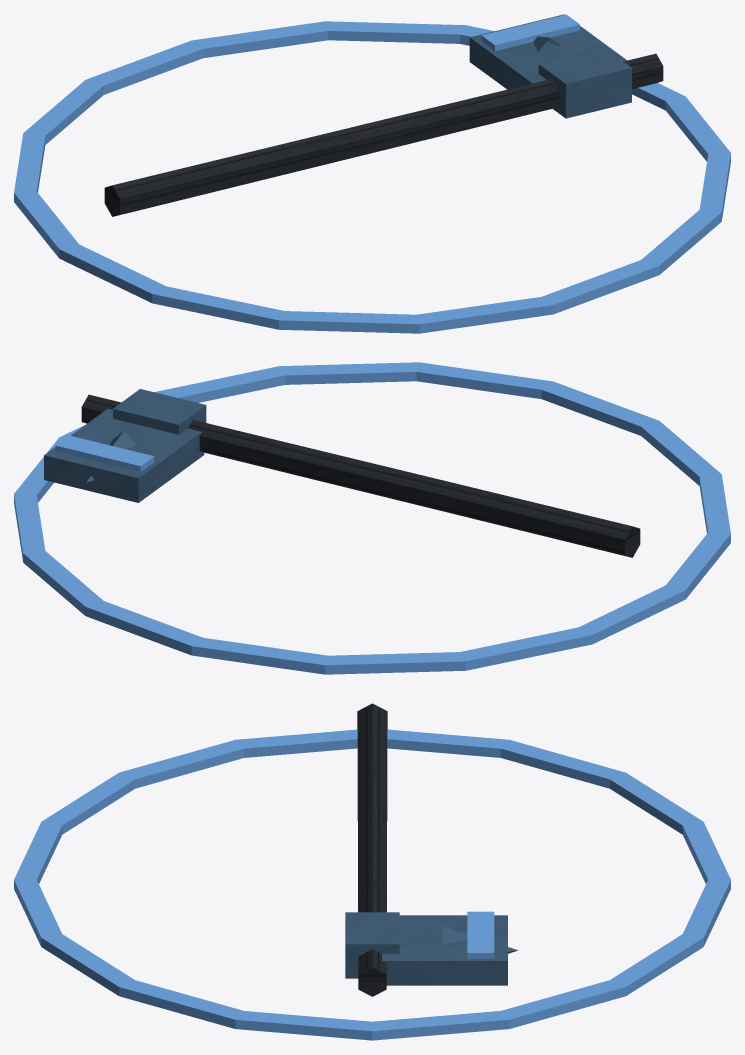
File: loot_axe_g1.glb
The picture shows the model from 3 angles, top to bottom: view 1: azimuth 30°, elevation 25°; view 2: azimuth 150°, elevation 25°; view 3: azimuth 270°, elevation 25°; orthographic projection.
Visible parts, largest first — view 1: loot_axe_g1; view 2: loot_axe_g1; view 3: loot_axe_g1.
Part boxes in pixels (bbox=[...]): loot_axe_g1: bbox=[14, 14, 730, 333]; loot_axe_g1: bbox=[14, 362, 730, 674]; loot_axe_g1: bbox=[14, 703, 730, 1040].
Size of the model in its own units: 1.32 by 0.135 by 1.32.
Materials: 3 (2 with a texture image).
